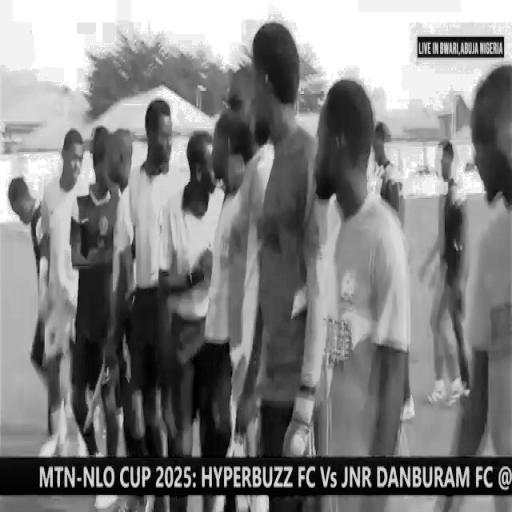keeper1: (230, 18, 323, 460)
keeper2: (34, 129, 82, 436)
referee: (136, 99, 228, 456)
team1: (304, 79, 425, 463)
team2: (73, 130, 118, 449)
